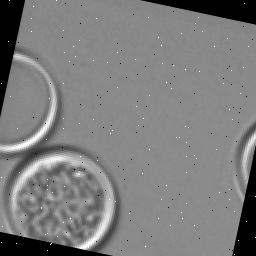picoshell: (2, 148, 117, 252), (0, 51, 59, 158), (233, 121, 256, 201)
